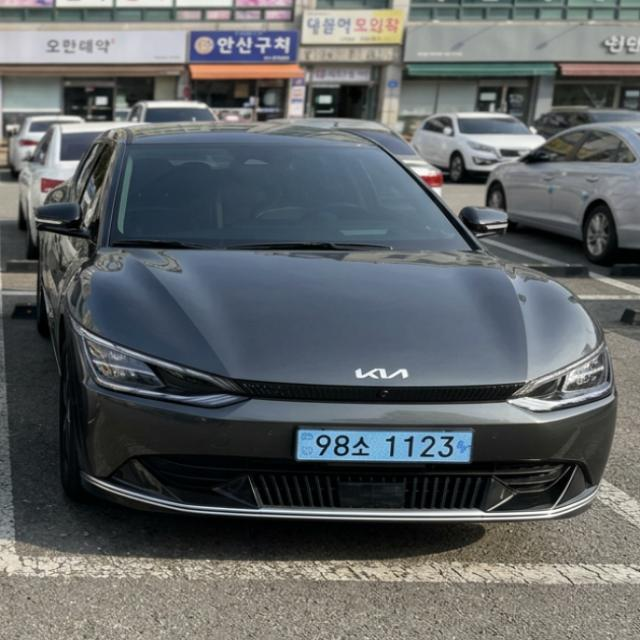car: (275, 417, 486, 476)
carev: (293, 424, 317, 464), (454, 429, 477, 465)
